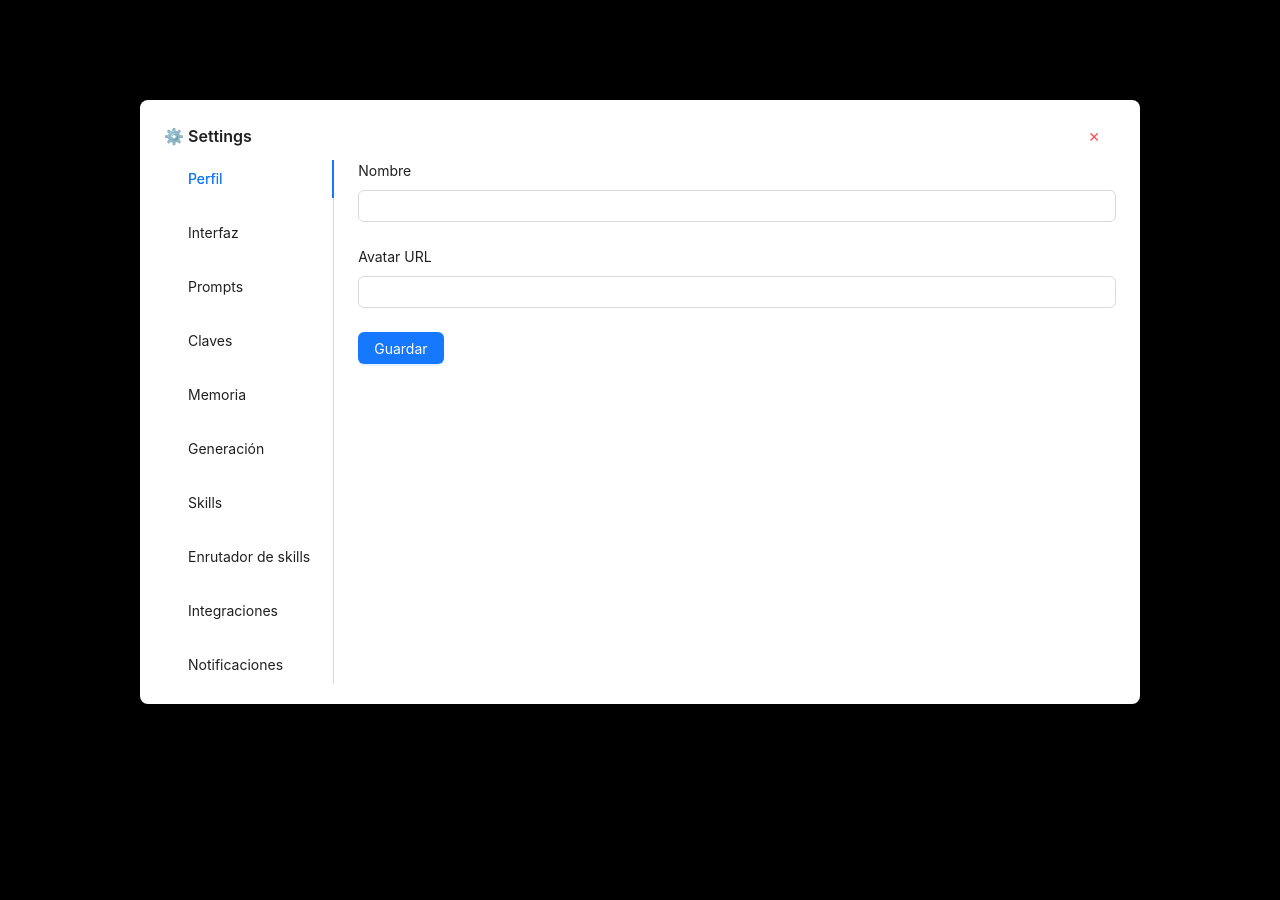
Test: SettingsDialog › renders Prompts tab with System, Archivist, Collapse, Consolidator and Timeline sub-tabs
Click the tab "Prompts" at [216, 287], box [188,276,243,298]
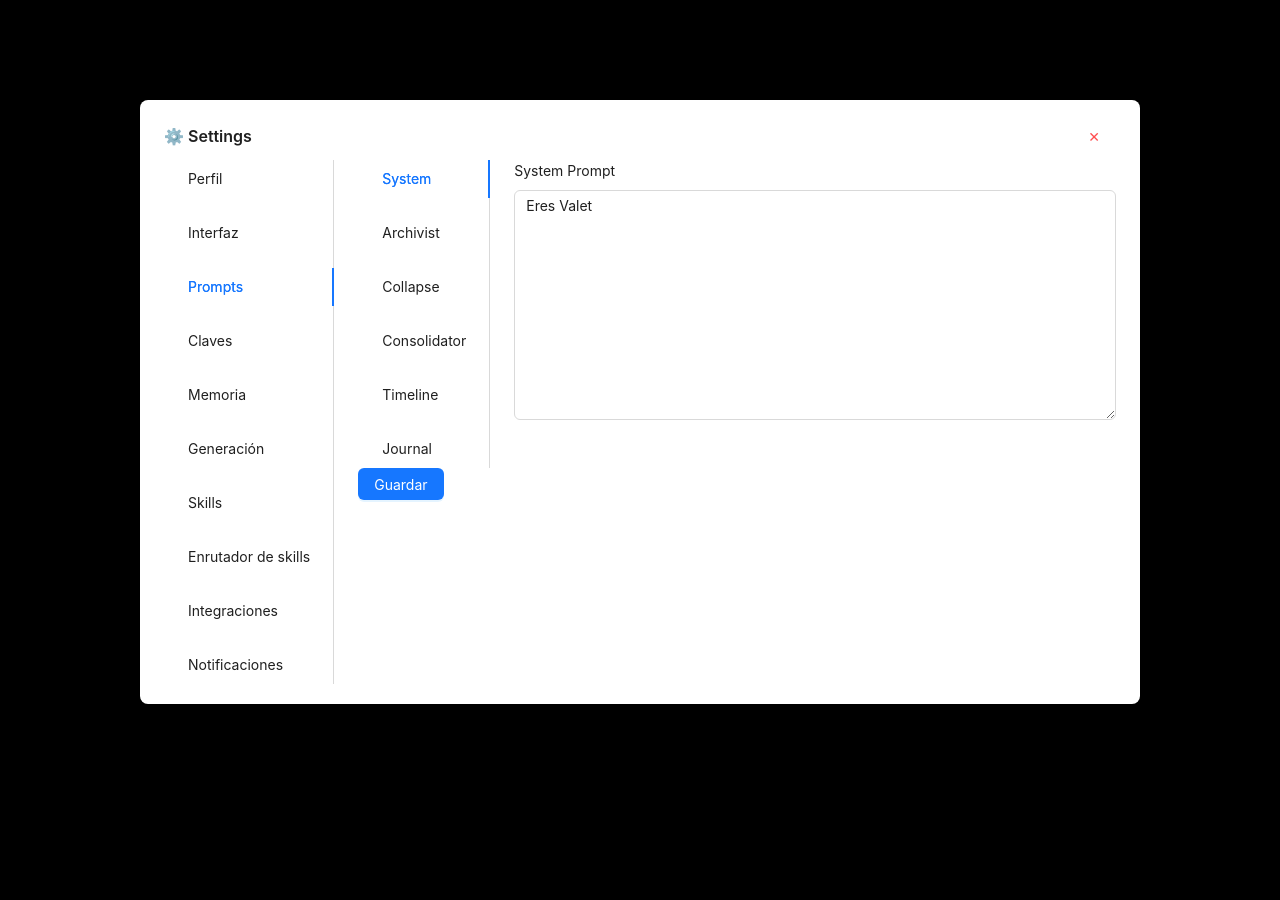
Expected: the tab "System" is shown, [382,168,431,190]
Expected: the tab "Archivist" is shown, [382,222,440,244]
Expected: the tab "Collapse" is shown, [382,276,440,298]
